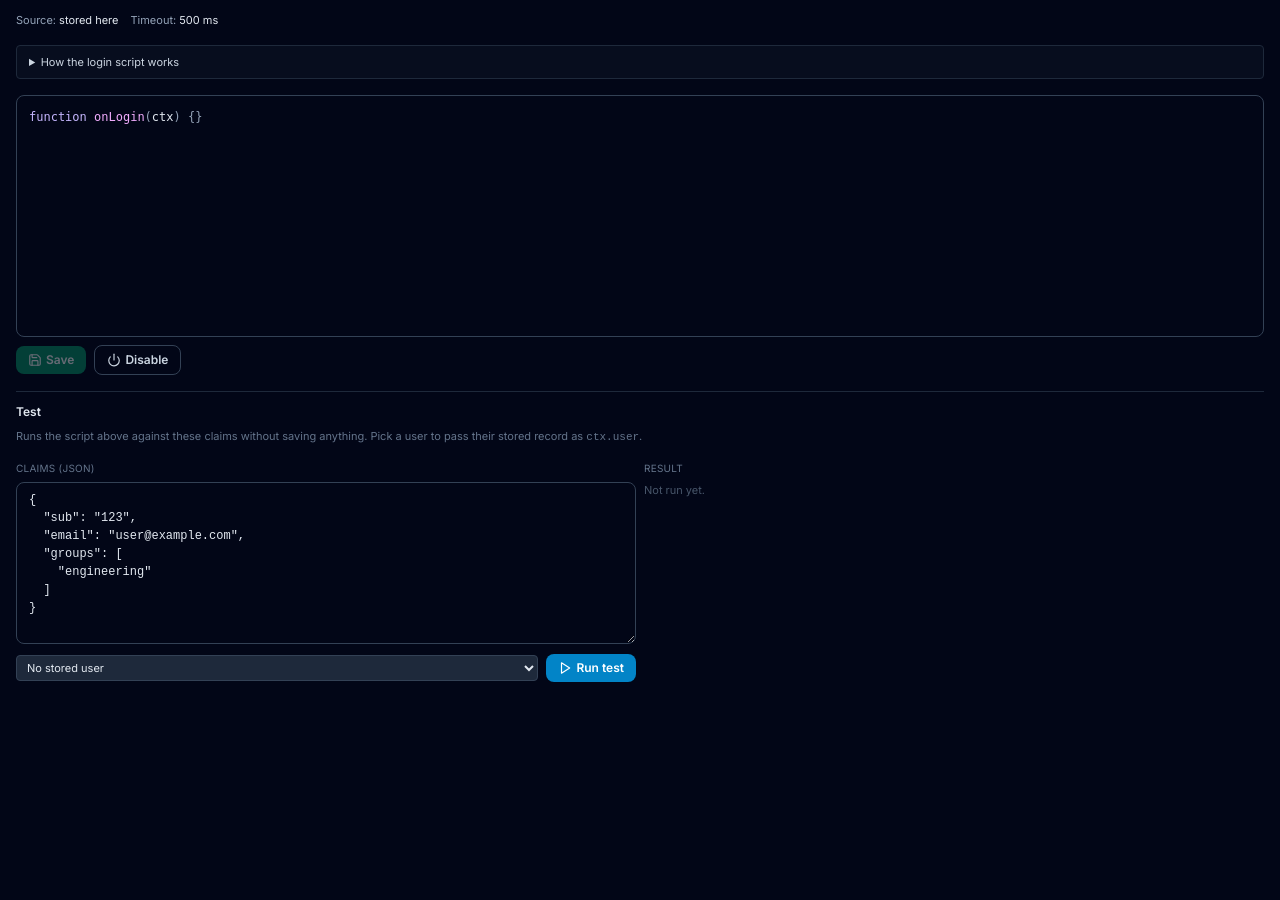
Test: the login script editor › shows a compile error from the backend
Replace the text in the text box showing "function onLogin(ctx) {}" with "function onLogin(". click: coordinates (640, 216)
box: [17,96,1263,336]
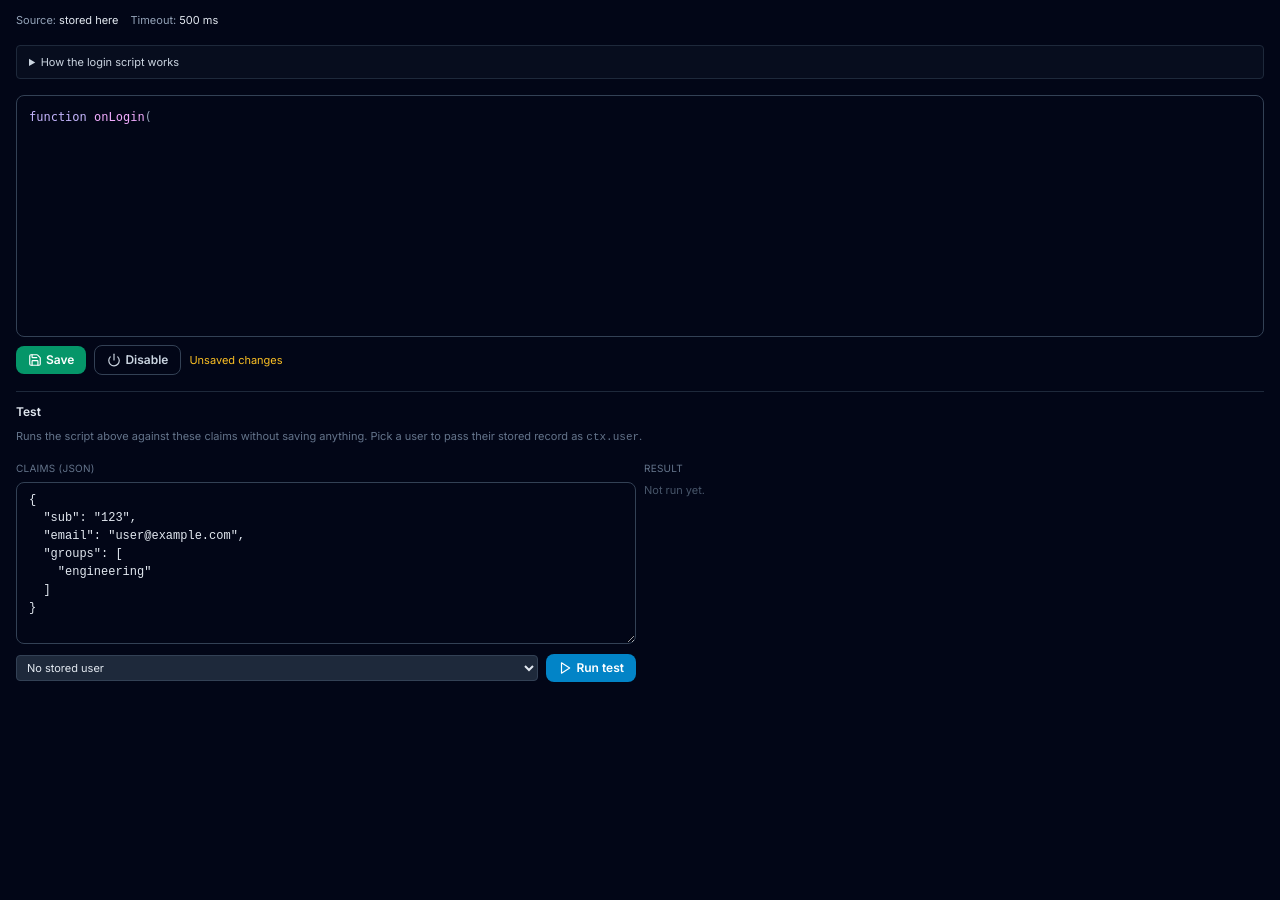
Click the button "Save". click: coordinates (51, 360)
box: [16,346,86,374]
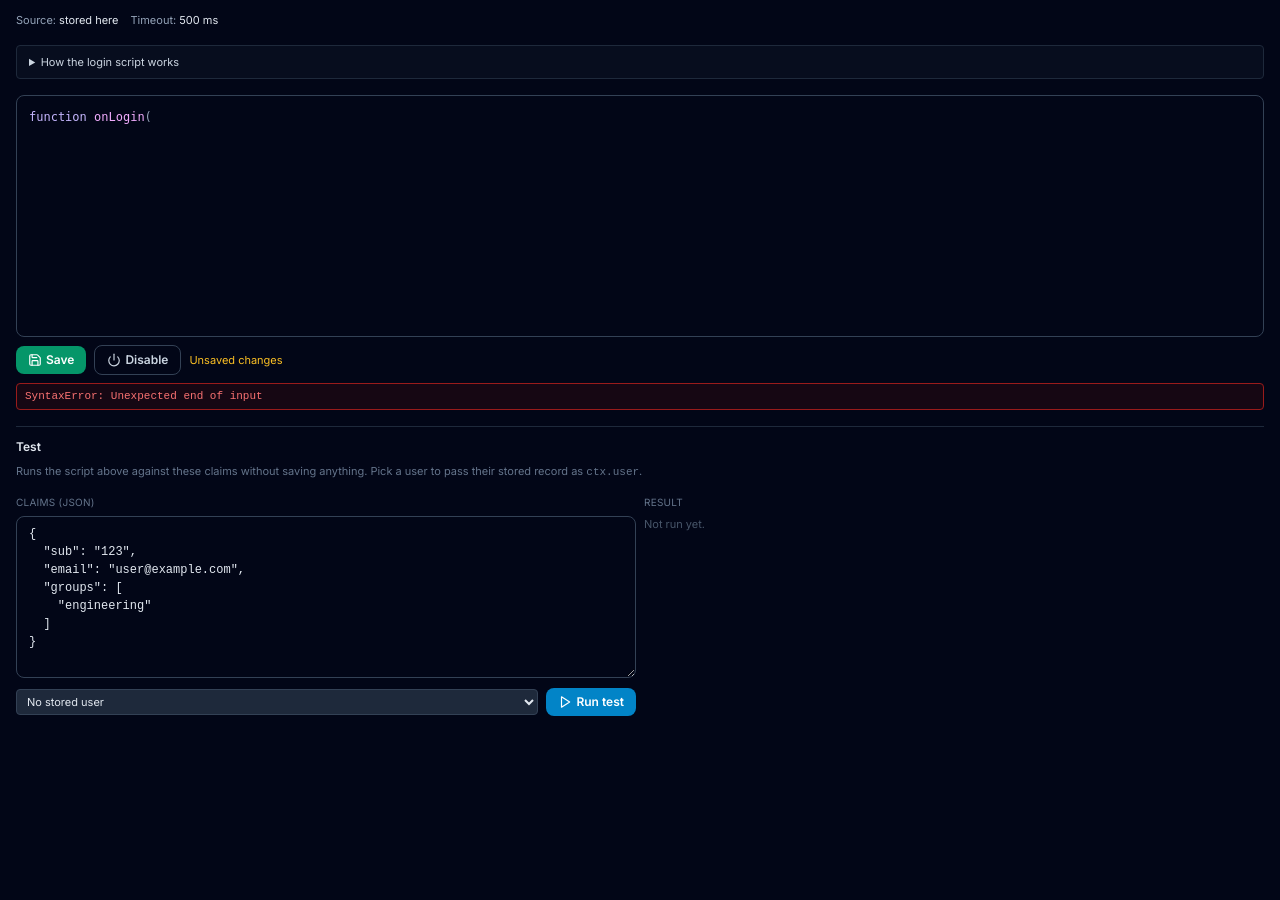
Expected: the message reads "SyntaxError: Unexpected end of input", [25,390,263,402]
